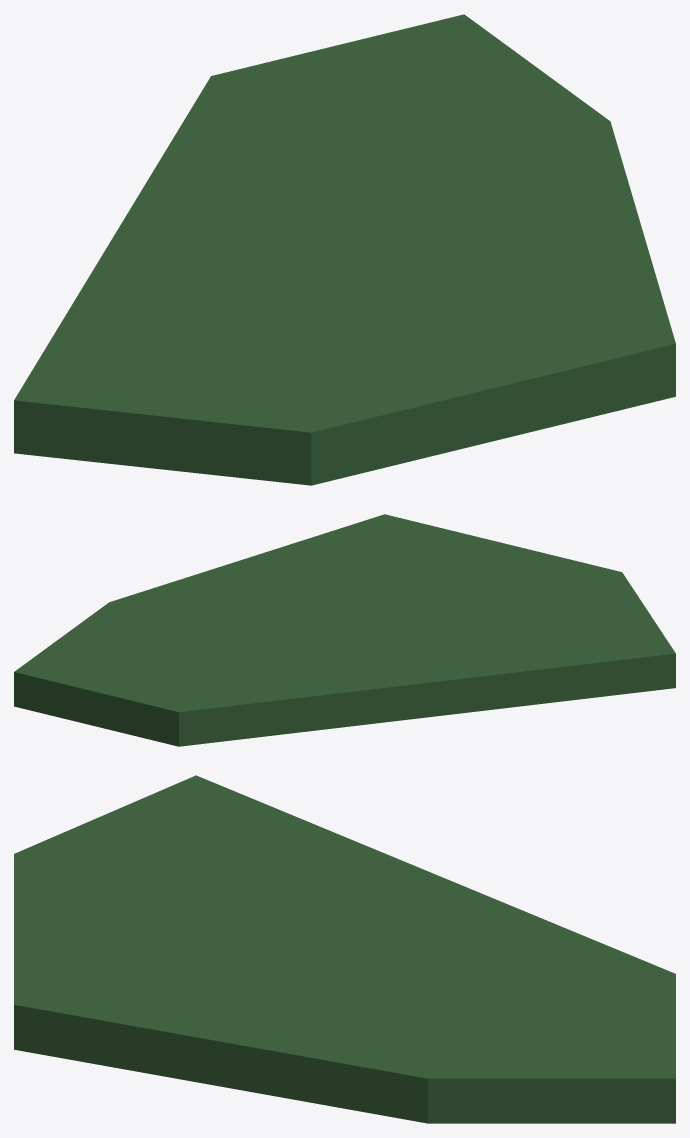
Rendered from x_proval_00_106_1_rmstrd.fbx.
3 renders of one model, top to bottom at view 1: azimuth 30°, elevation 25°; view 2: azimuth 150°, elevation 25°; view 3: azimuth 270°, elevation 25°, orthographic. The views are drawn at different scales.
Visible parts, largest first — view 1: x_proval_00_106_1_1; view 2: x_proval_00_106_1_1; view 3: x_proval_00_106_1_1.
Boxes of the visible parts, x1,y1,x2,y2 form: x_proval_00_106_1_1: [14, 14, 675, 485]; x_proval_00_106_1_1: [14, 514, 675, 746]; x_proval_00_106_1_1: [14, 775, 675, 1123].
Size of the model in its own units: 2.9 by 0.2 by 2.67.
